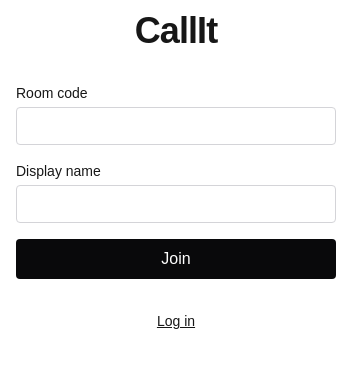
Test case: landing page › a room-not-found failure is surfaced and does not navigate
Type "ZZZ999" into the field labelled "Room code" at {"x": 176, "y": 126}, box [16, 107, 336, 145]
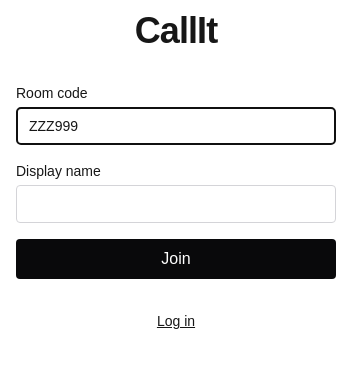
Type "Ann" into the field labelled "Display name" at {"x": 176, "y": 204}, box [16, 185, 336, 223]
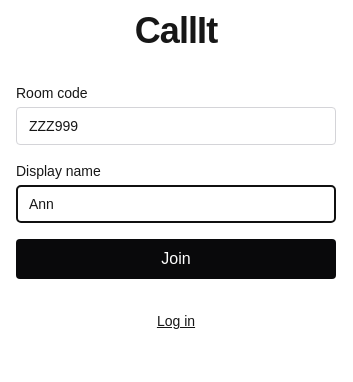
Click the button "Join" at {"x": 176, "y": 259}, box [16, 239, 336, 279]
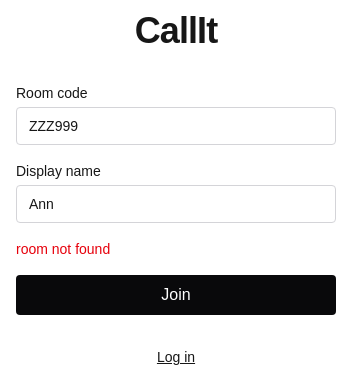
Expected: the message reads "room not found", [16, 241, 110, 257]
